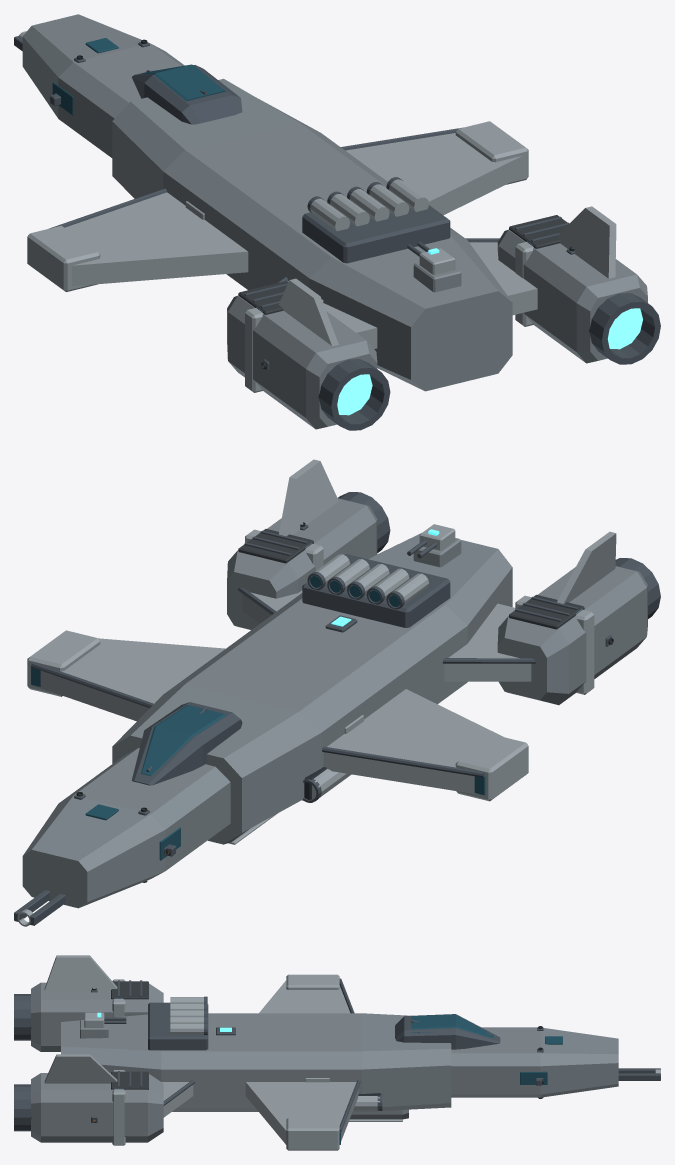
File: earth_recon_t4.glb
3 views of the same model, one above another, from view 1: azimuth 30°, elevation 25°; view 2: azimuth 150°, elevation 25°; view 3: azimuth 270°, elevation 25° (orthographic). The views are drawn at different scales.
Visible parts, largest first — view 1: FleetHull, mesh_pd_yaw_1; view 2: FleetHull; view 3: FleetHull, mesh_pd_yaw_1.
Boxes of the visible parts, left/top/right/bottom form: FleetHull: left=14, top=14, right=660, bottom=430; mesh_pd_yaw_1: left=419, top=248, right=455, bottom=274; FleetHull: left=14, top=459, right=660, bottom=926; FleetHull: left=14, top=955, right=660, bottom=1150; mesh_pd_yaw_1: left=84, top=1012, right=104, bottom=1027.
Size of the model in its own units: 16.5 by 5.41 by 29.01.
